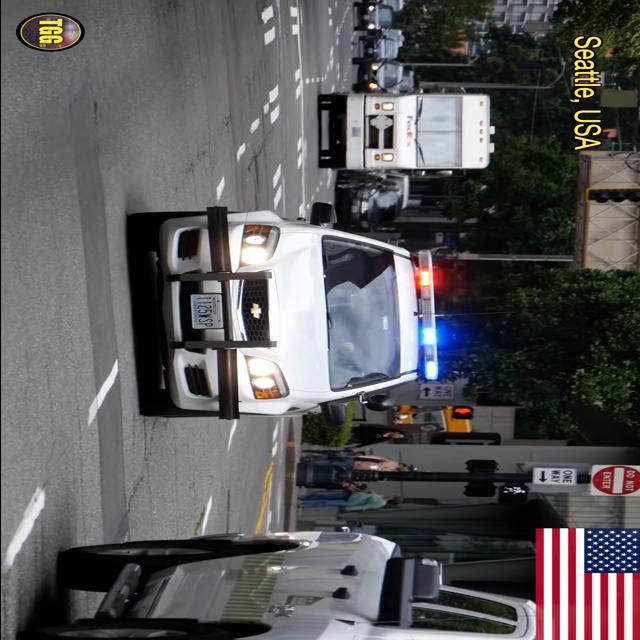emergency-vehicles: (122, 193, 450, 444)
